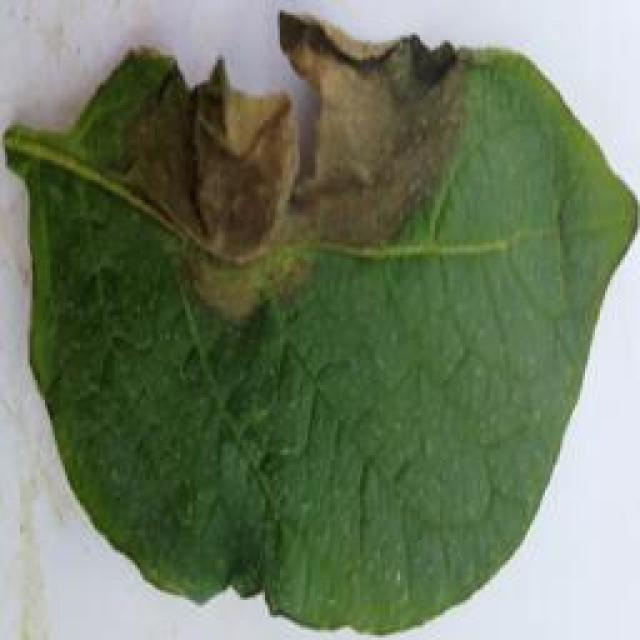Potato_Late_Blight: (9, 23, 626, 630)
